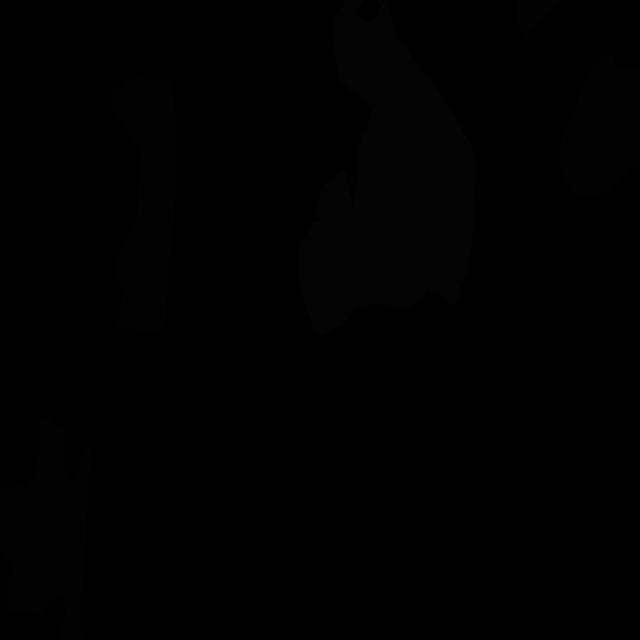cardboard: (0, 416, 92, 640), (110, 76, 177, 333), (558, 52, 640, 198)
metal: (516, 0, 560, 36)
soft_plastic: (298, 0, 476, 336), (316, 170, 352, 220)
